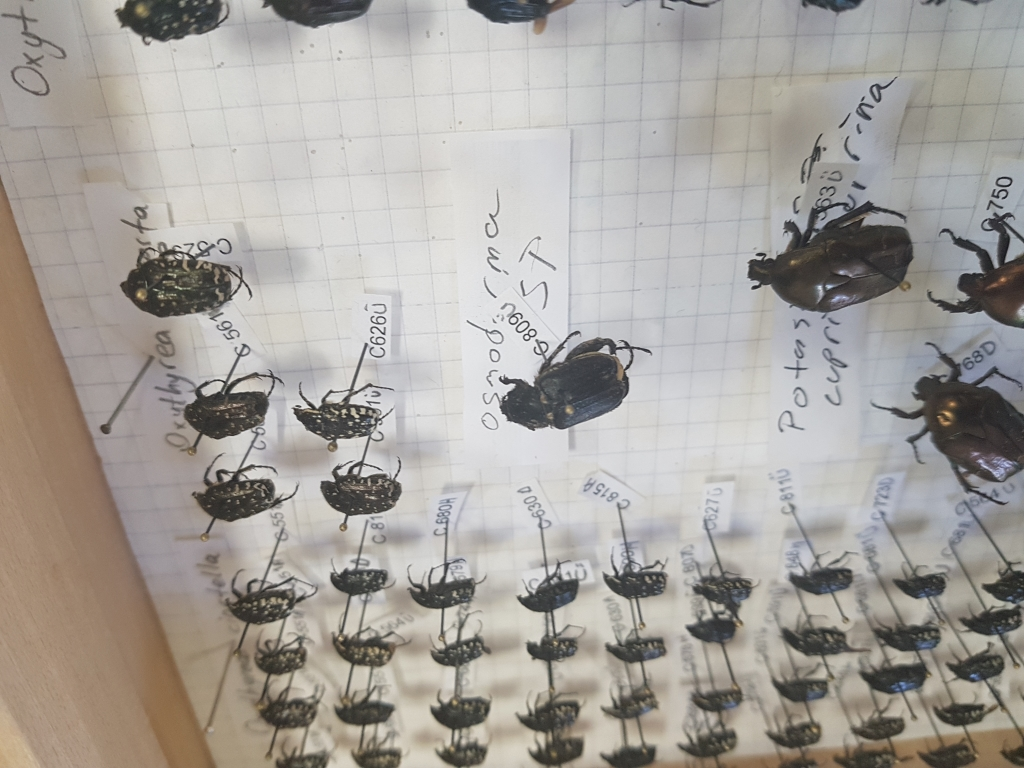Oxythyrea_funesta: (288, 380, 383, 450)
